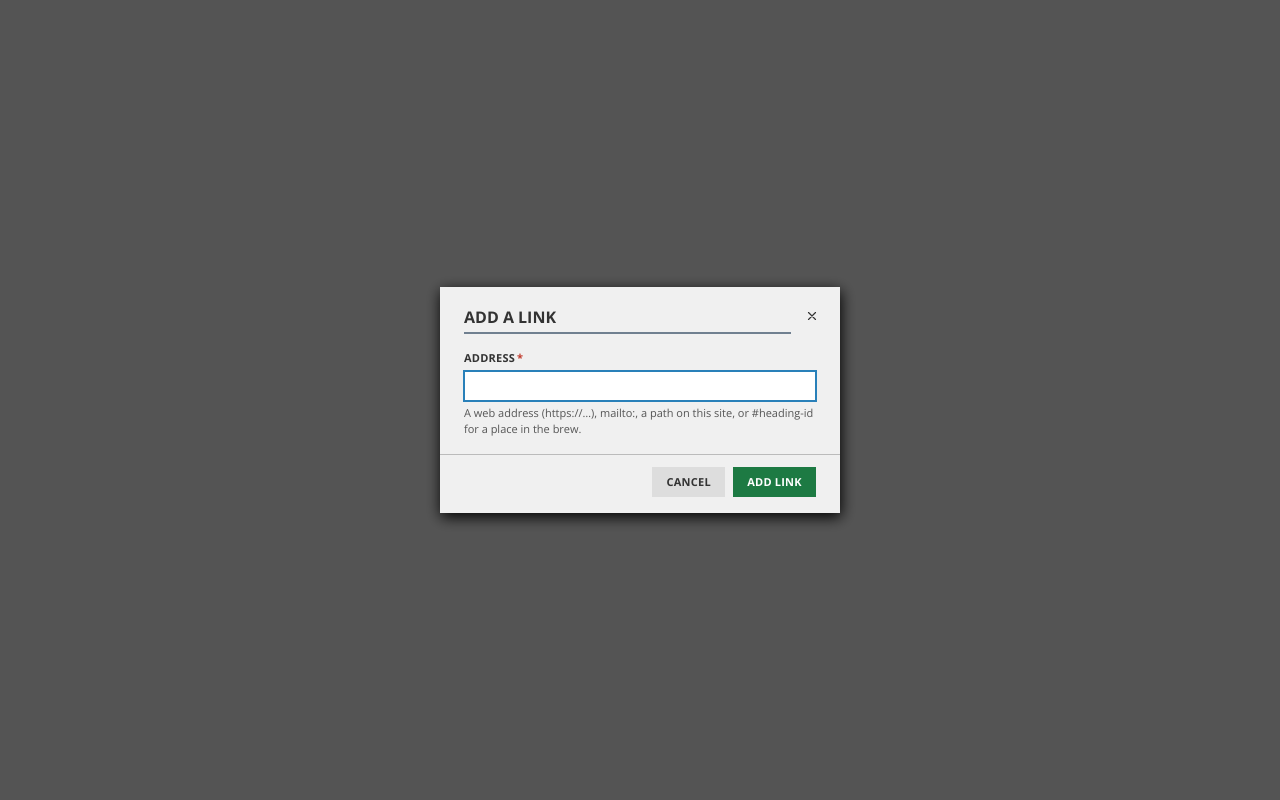
LinkDialog › refuses addresses outside the URL policy and empty ones
Press Enter
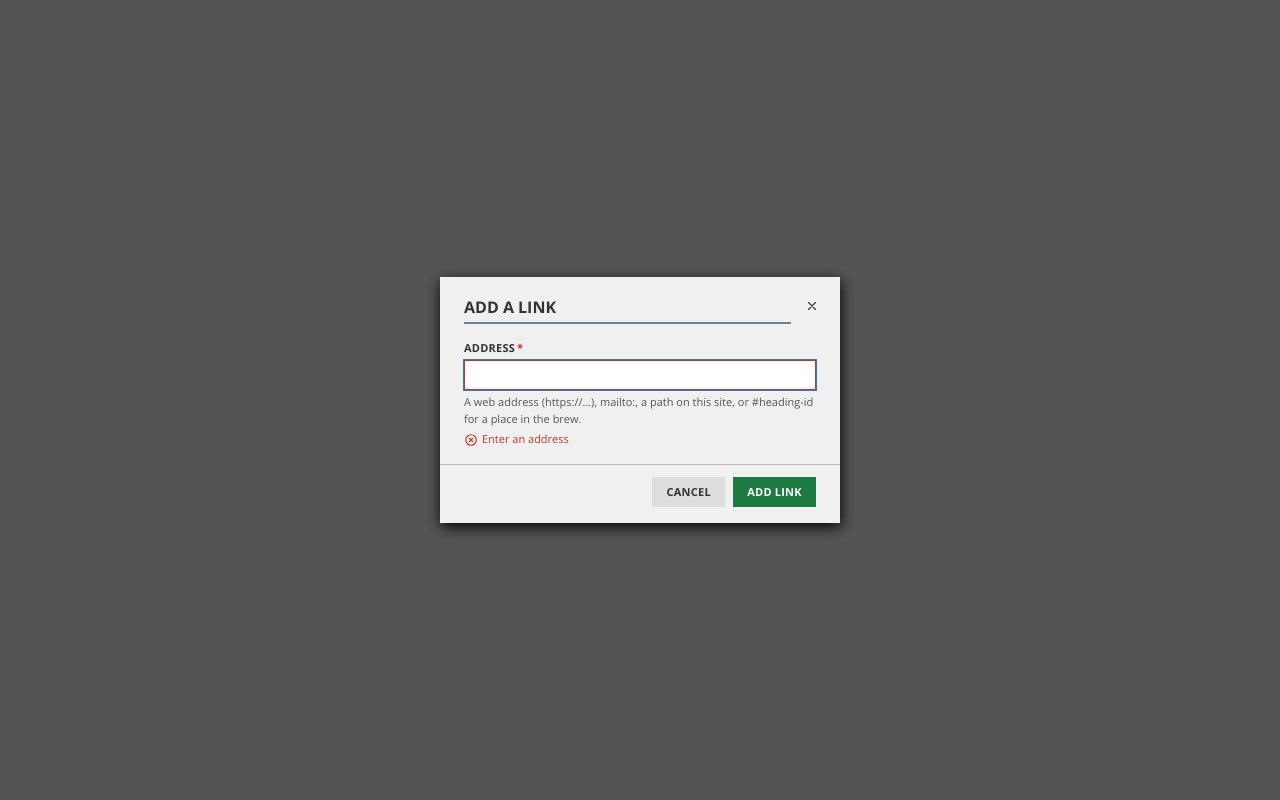
Expected: the text "Enter an address" is shown, [464,431,569,447]
Type "javascript:alert(1)" into the field labelled "Address" at [640, 375], box [464,360,816,390]
Then press Enter
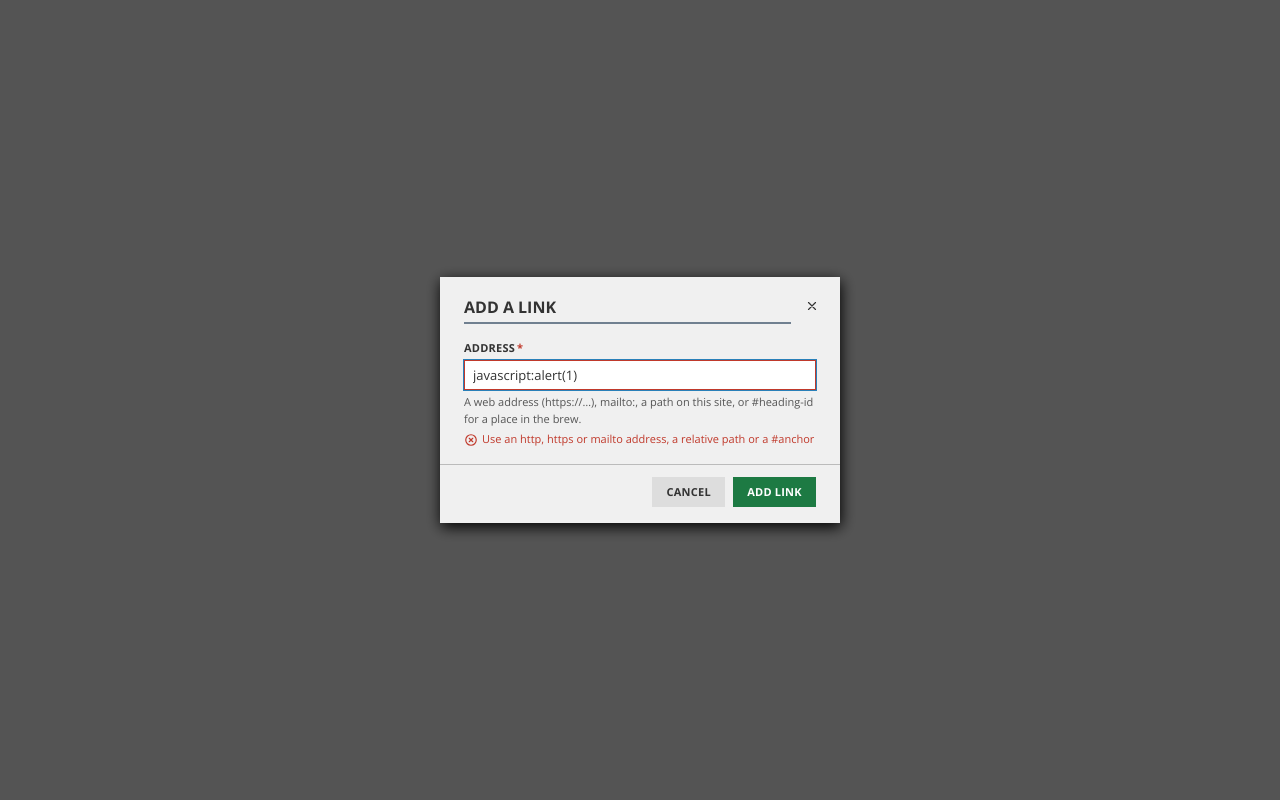
Expected: the text "Use an http, https or mailto address" is shown, [482,431,814,446]
